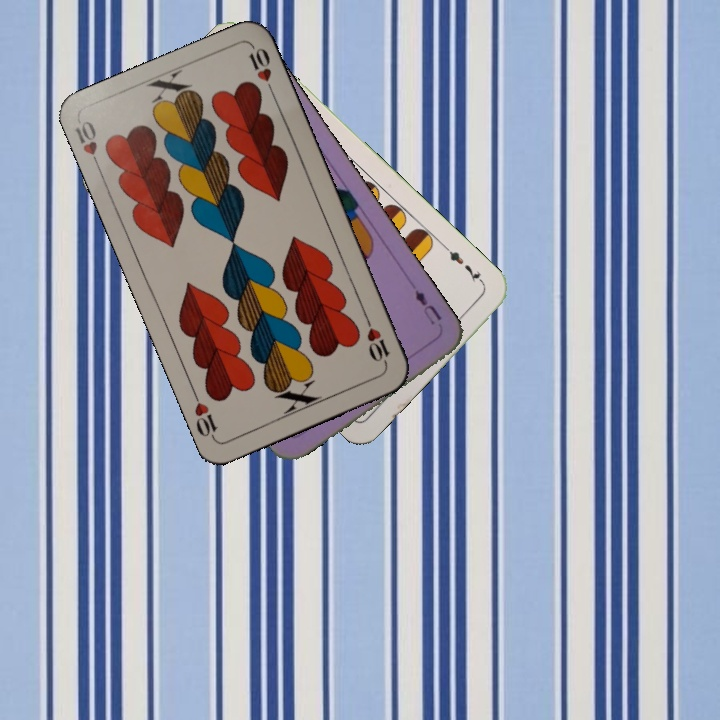E7: (440, 241, 487, 287)
EU: (410, 285, 444, 327)
H10: (360, 311, 393, 368), (71, 116, 104, 173)
